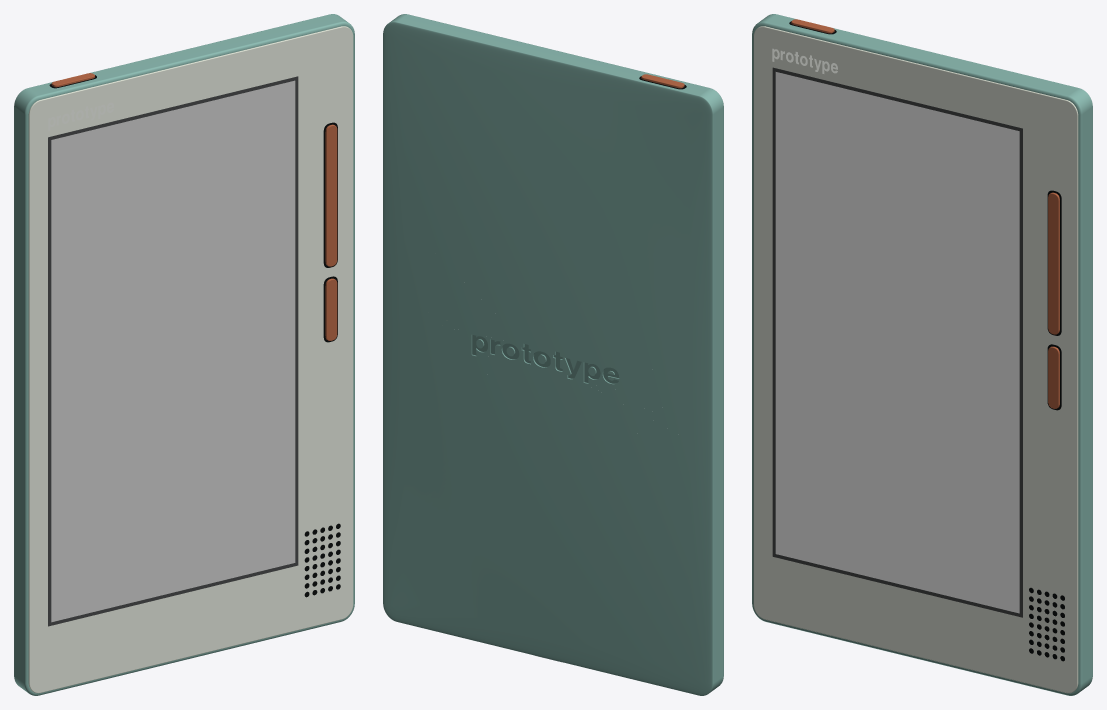
Rendered from prototype-teal.glb.
3 renders of one model, left to right at view 1: azimuth 30°, elevation 25°; view 2: azimuth 150°, elevation 25°; view 3: azimuth 330°, elevation 25°, orthographic.
Visible parts, largest first — view 1: Flush_glass_lens, E-ink_screen, Prototype_front_plate, Case_enclosure, Display_black_trim, 25D_glass_perimeter, Front_page_rocker, Front_function_key, Front_page_rocker_recess; view 2: Case_enclosure; view 3: Flush_glass_lens, E-ink_screen, Prototype_front_plate, Case_enclosure, Display_black_trim, 25D_glass_perimeter, Front_page_rocker, Front_function_key.
Part boxes in pixels (x1,y1,x2,y2): Flush_glass_lens: (30, 27, 352, 692); E-ink_screen: (51, 80, 295, 622); Prototype_front_plate: (28, 26, 352, 692); Case_enclosure: (14, 14, 354, 695); Display_black_trim: (48, 76, 298, 626); 25D_glass_perimeter: (29, 26, 353, 693); Front_page_rocker: (325, 124, 337, 266); Front_function_key: (325, 278, 337, 340); Front_page_rocker_recess: (323, 122, 337, 267); Case_enclosure: (383, 14, 723, 695); Flush_glass_lens: (754, 27, 1076, 692); E-ink_screen: (775, 72, 1019, 613); Prototype_front_plate: (754, 26, 1078, 692); Case_enclosure: (752, 14, 1092, 695); Display_black_trim: (772, 67, 1022, 617); 25D_glass_perimeter: (753, 26, 1077, 693); Front_page_rocker: (1048, 192, 1059, 334); Front_function_key: (1048, 346, 1059, 408).
Size of the model in its own units: 0.076 by 0.1326 by 0.00675.
